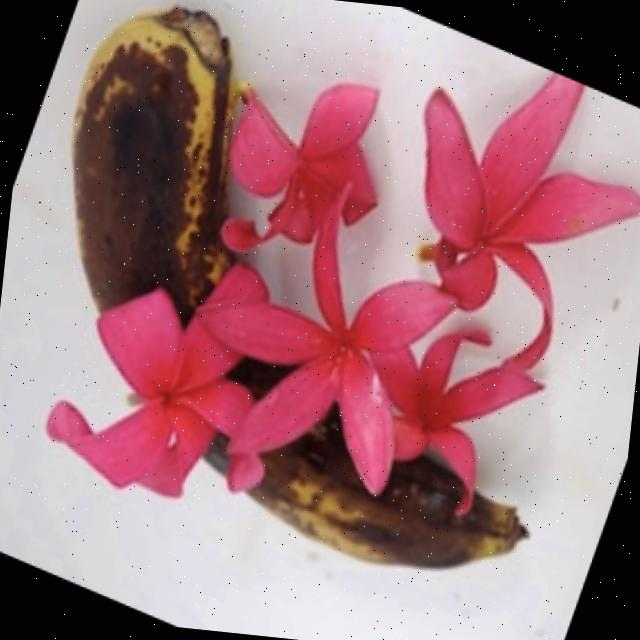rotten banana: (3, 0, 608, 605)
